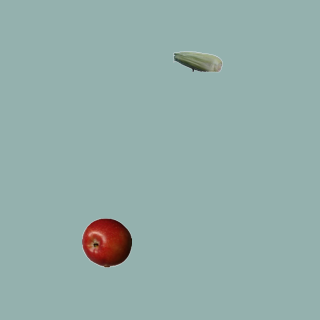Apple Braeburn: (81, 217, 131, 267)
Corn Husk: (172, 36, 222, 86)
